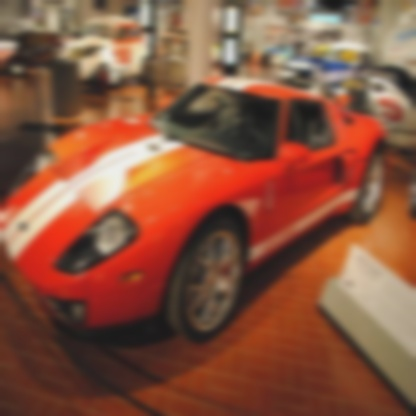Vehicle: (0, 77, 388, 344)
